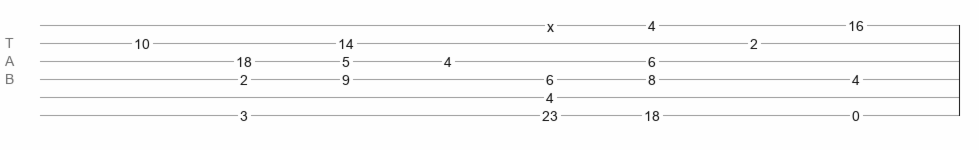0: (852, 108, 860, 118)
10: (134, 36, 150, 46)
14: (338, 36, 354, 46)
16: (848, 18, 864, 28)
18: (236, 54, 252, 64), (644, 108, 660, 118)
2: (240, 72, 248, 82), (750, 36, 758, 46)
23: (542, 108, 558, 118)
3: (240, 108, 248, 118)
4: (444, 54, 452, 64), (546, 90, 554, 100), (648, 18, 656, 28), (852, 72, 860, 82)
5: (342, 54, 350, 64)
6: (546, 72, 554, 82), (648, 54, 656, 64)
8: (648, 72, 656, 82)
9: (342, 72, 350, 82)
x: (547, 19, 554, 27)
